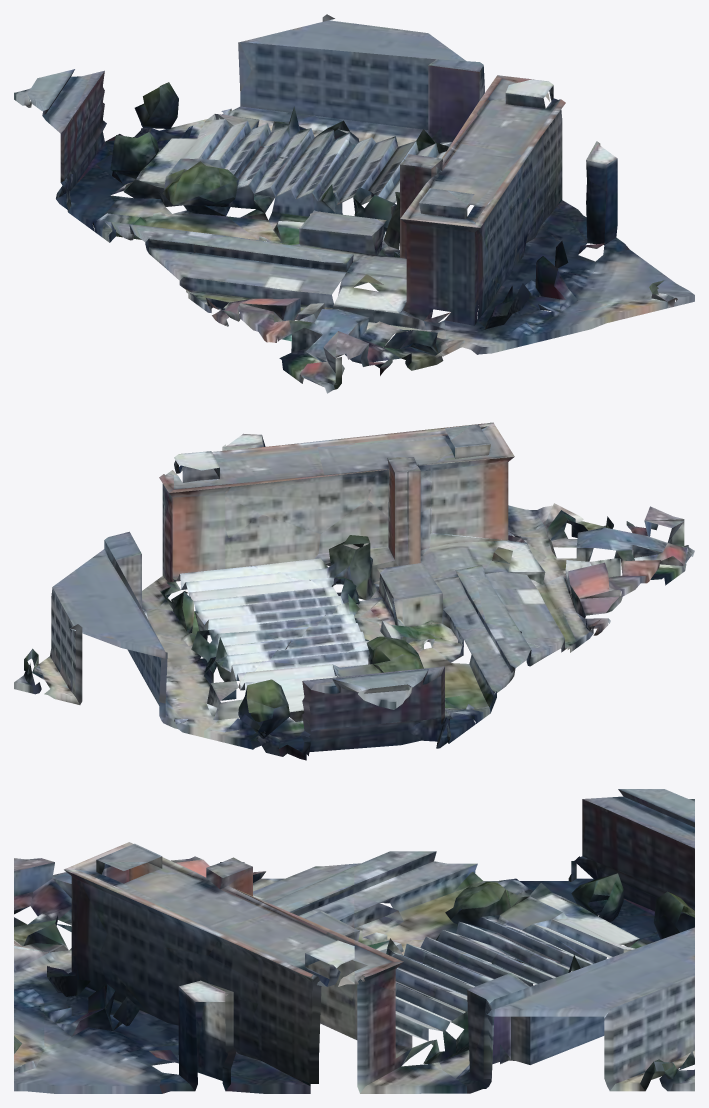
The picture shows the model from 3 angles, top to bottom: view 1: azimuth 30°, elevation 25°; view 2: azimuth 150°, elevation 25°; view 3: azimuth 270°, elevation 25°; orthographic projection. The views are drawn at different scales.
Parts seen in each view (by area): view 1: 304362727043706265_0; view 2: 304362727043706265_0; view 3: 304362727043706265_0.
Boxes of the visible parts, x1,y1,x2,y2 form: 304362727043706265_0: [14, 14, 694, 393]; 304362727043706265_0: [14, 422, 694, 760]; 304362727043706265_0: [14, 789, 694, 1093].
Size of the model in its own units: 109 by 32.09 by 153.
1 material, 1 textured.
